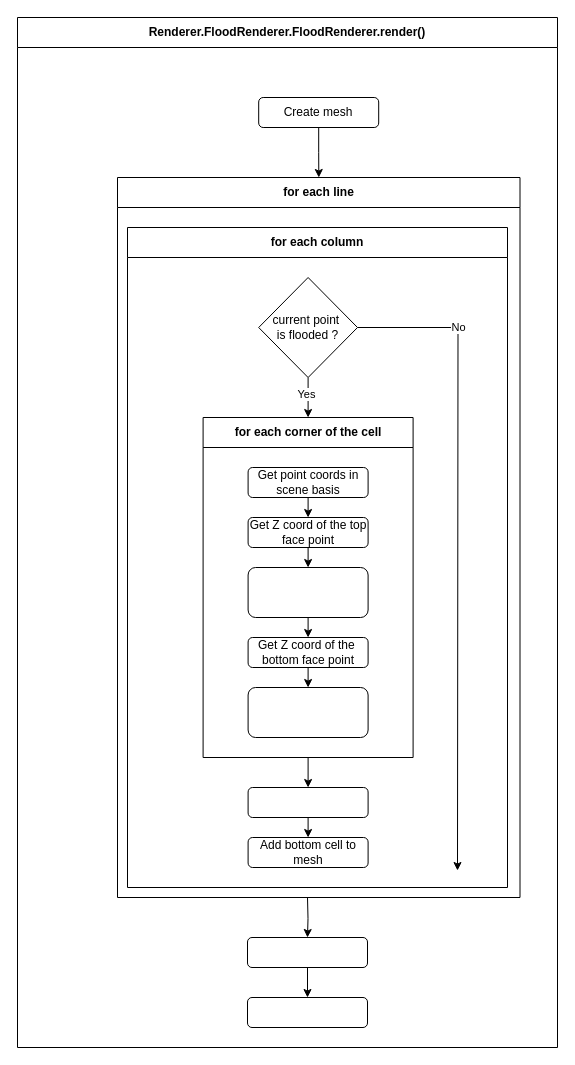
This 575x1065 diagram has some shape labels left out. The centre of each missing label's shape, as x and y in pixels:
Add GeometryNodes modifier to object: point (307, 1012)
Add top cell to mesh: point (307, 802)
Cache/retrieve previously used bottom face point: point (307, 712)
Cache/retrieve previously used top face point: point (307, 592)
Create object from mesh: point (307, 952)
